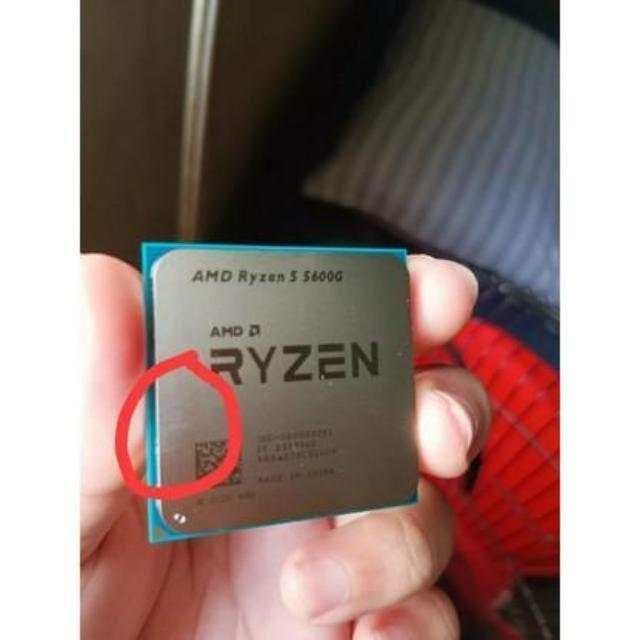CPU: (146, 246, 422, 524)
